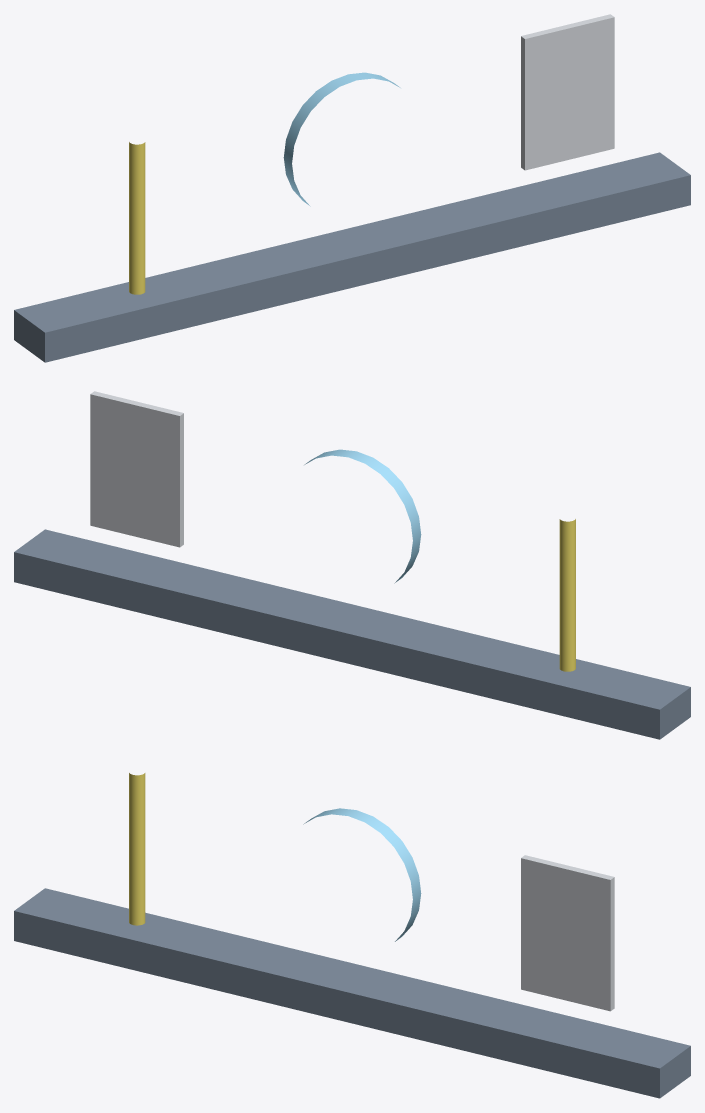
File: convex_lens_focal_length_uv.glb
The picture shows the model from 3 angles, top to bottom: view 1: azimuth 30°, elevation 25°; view 2: azimuth 150°, elevation 25°; view 3: azimuth 330°, elevation 25°; orthographic projection.
Visible parts, largest first — view 1: PrecisionOpticalBenchRail, RealImageScreenReceiverUpright, IlluminatedObjectPinUpright, DoubleConvexGlassLensInHolder; view 2: PrecisionOpticalBenchRail, RealImageScreenReceiverUpright, IlluminatedObjectPinUpright, DoubleConvexGlassLensInHolder; view 3: PrecisionOpticalBenchRail, RealImageScreenReceiverUpright, IlluminatedObjectPinUpright, DoubleConvexGlassLensInHolder.
Boxes of the visible parts, left/top/right/bottom form: PrecisionOpticalBenchRail: left=14, top=152, right=690, bottom=362; RealImageScreenReceiverUpright: left=521, top=14, right=614, bottom=170; IlluminatedObjectPinUpright: left=129, top=142, right=145, bottom=294; DoubleConvexGlassLensInHolder: left=283, top=72, right=400, bottom=206; PrecisionOpticalBenchRail: left=14, top=529, right=690, bottom=739; RealImageScreenReceiverUpright: left=90, top=391, right=183, bottom=547; IlluminatedObjectPinUpright: left=559, top=519, right=575, bottom=671; DoubleConvexGlassLensInHolder: left=304, top=449, right=421, bottom=583; PrecisionOpticalBenchRail: left=14, top=888, right=690, bottom=1098; RealImageScreenReceiverUpright: left=521, top=855, right=614, bottom=1011; IlluminatedObjectPinUpright: left=129, top=773, right=145, bottom=925; DoubleConvexGlassLensInHolder: left=303, top=808, right=421, bottom=941.
Size of the model in its own units: 1.8 by 0.52 by 0.15.
